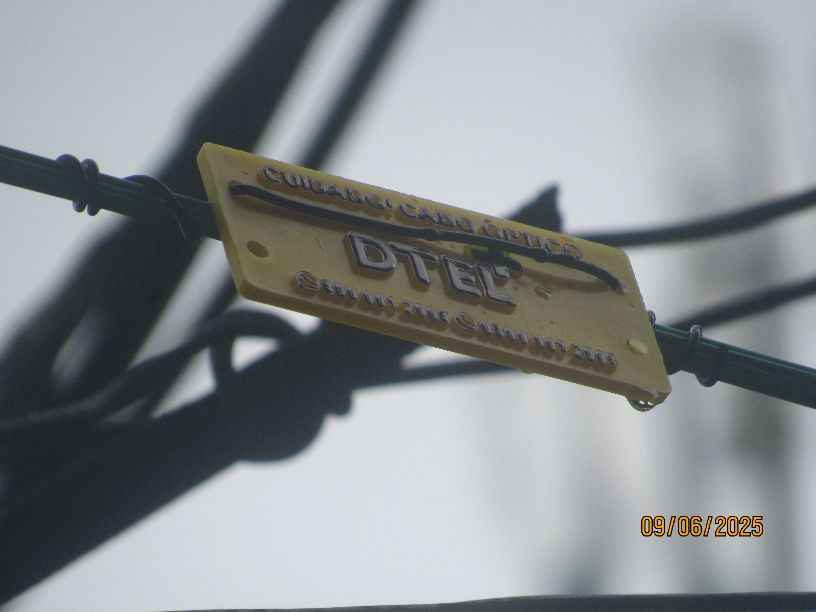fibra_optica: (178, 106, 690, 444)
